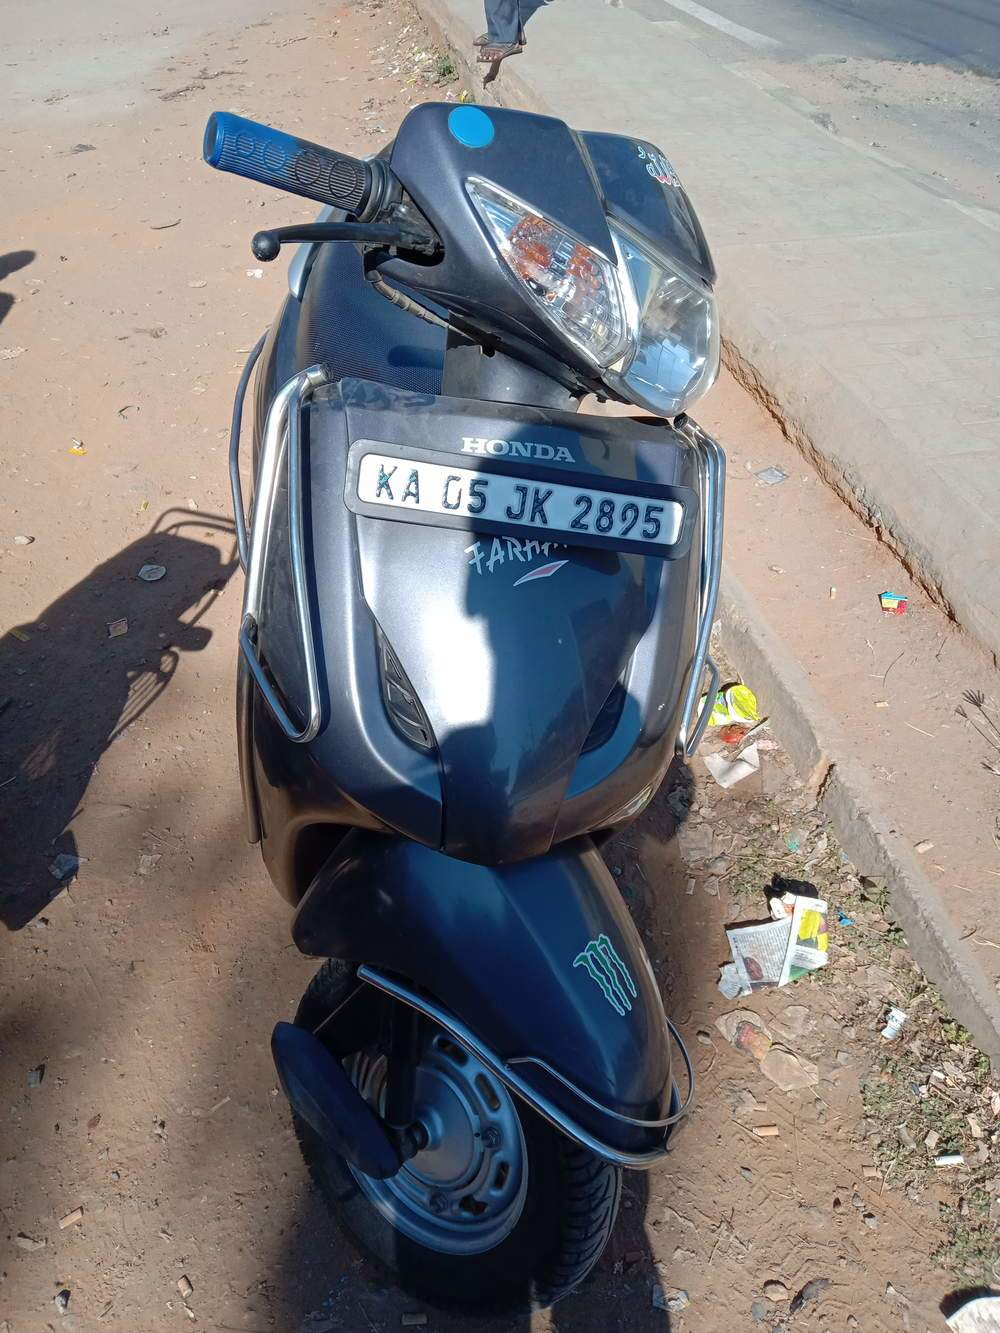numberplate: (342, 441, 700, 561)
